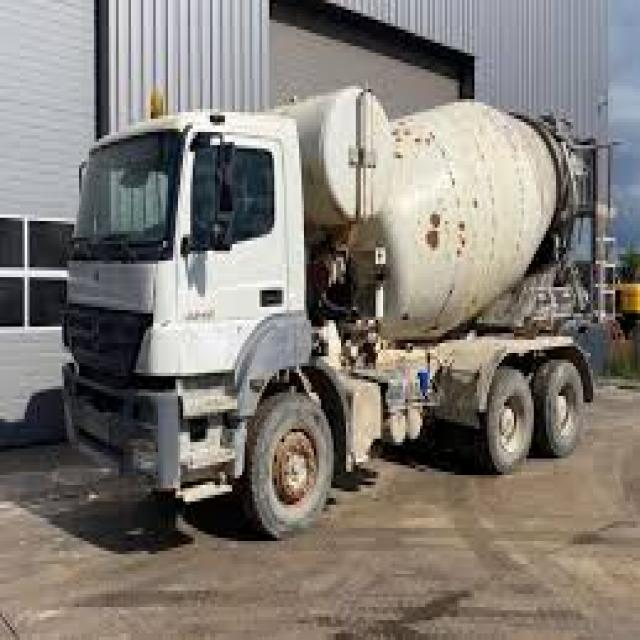Mixer Truck: (57, 76, 621, 540)
